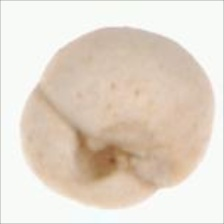L3: (69, 125, 144, 180)
L4: (21, 27, 216, 210)
